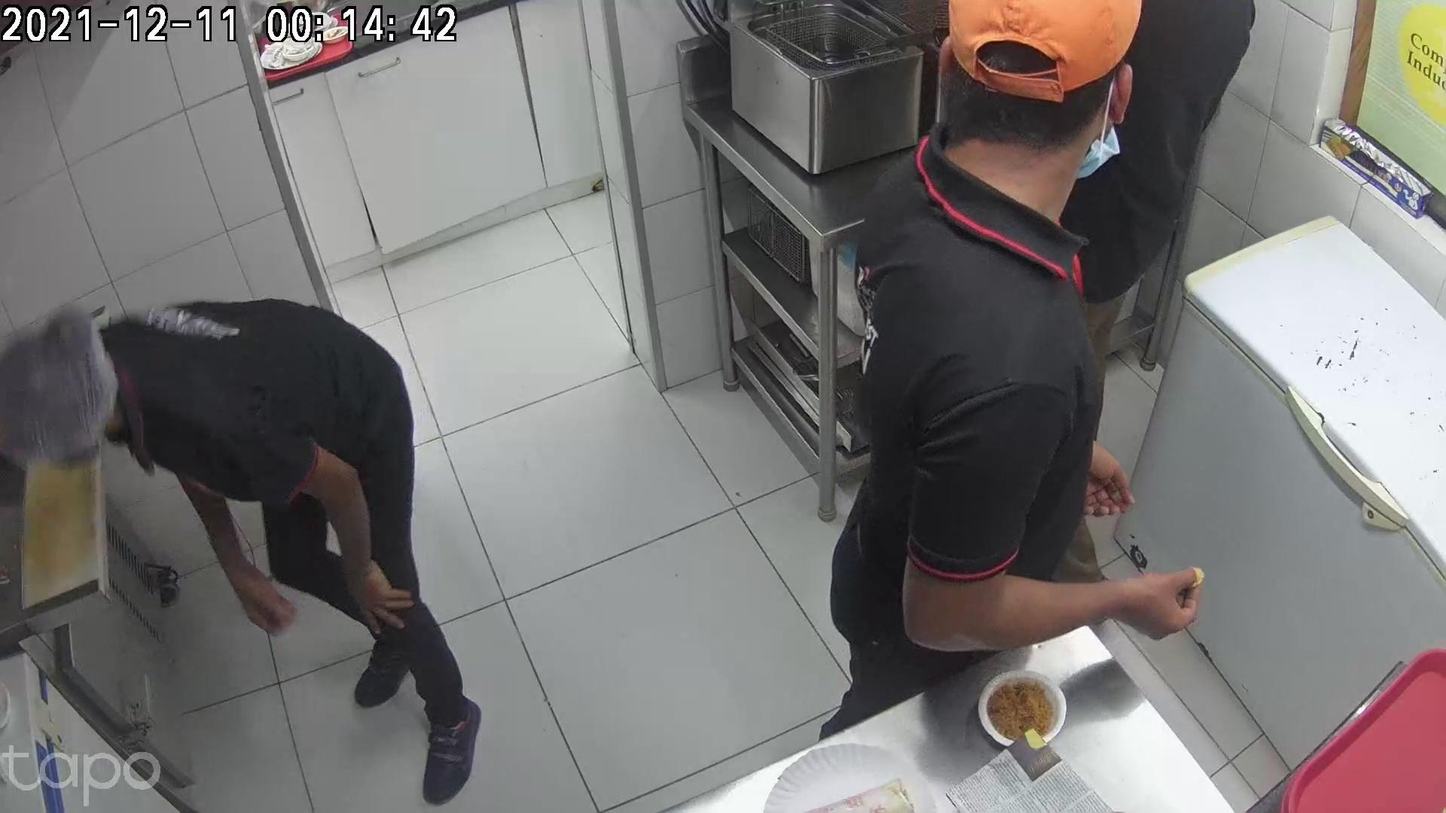gloves: (683, 606, 754, 753)
